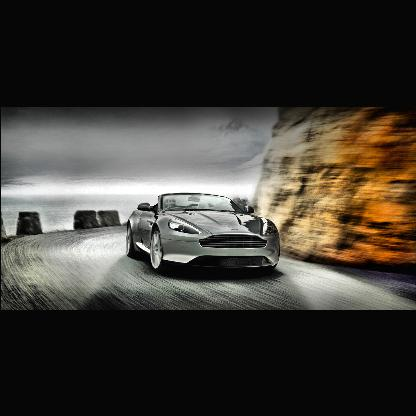Aston Martin Virage Convertible 2012: (123, 192, 282, 280)
